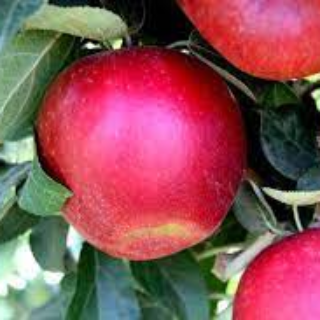tao: (32, 42, 248, 268)
